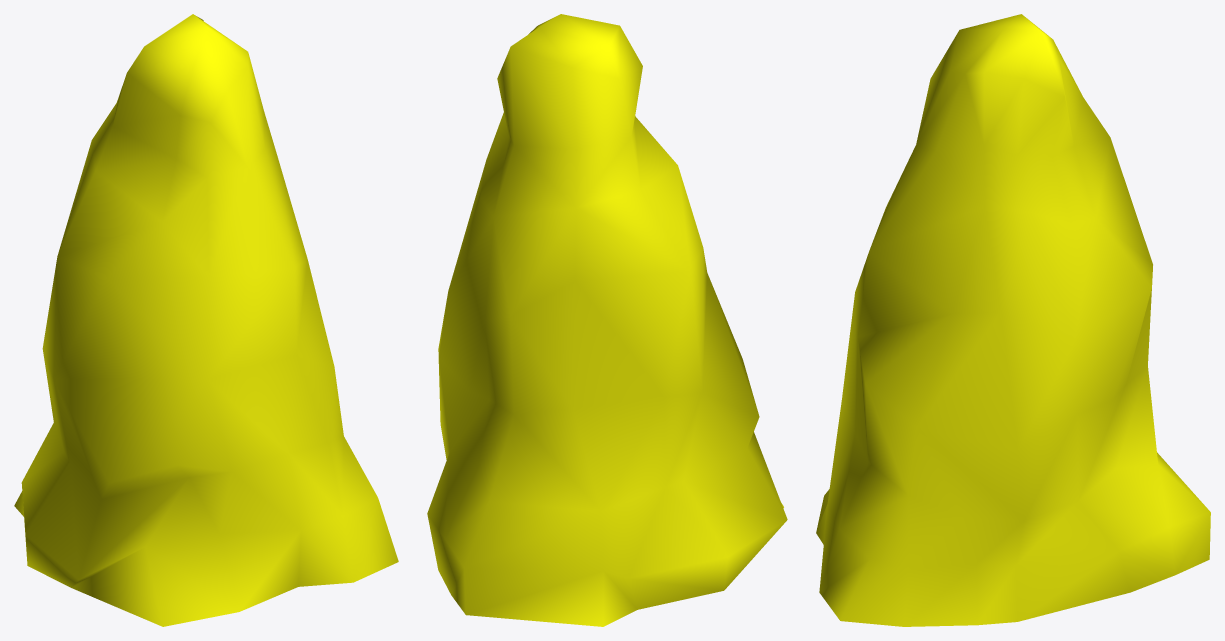
The model's file is general_obj_bigstone10.glb.
3 views of the same model, side by side, from view 1: azimuth 30°, elevation 25°; view 2: azimuth 150°, elevation 25°; view 3: azimuth 270°, elevation 25° (orthographic). The views are drawn at different scales.
Visible parts, largest first — view 1: Sphere01fs02; view 2: Sphere01fs02; view 3: Sphere01fs02.
Boxes of the visible parts, box(x1,y1,x2,y2) form: Sphere01fs02: box(14, 14, 398, 626); Sphere01fs02: box(427, 14, 787, 626); Sphere01fs02: box(816, 14, 1210, 626).
Size of the model in its own units: 13.02 by 21.51 by 14.32.
1 material, 1 textured.
